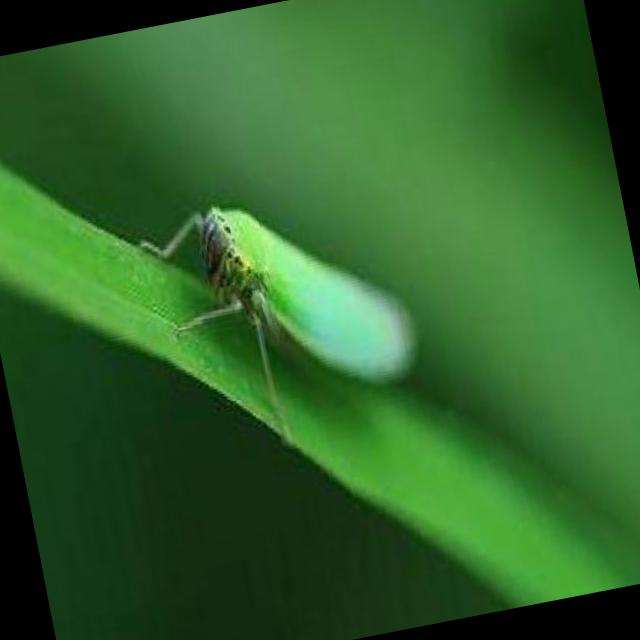green-leafhopper: (161, 169, 425, 443)
